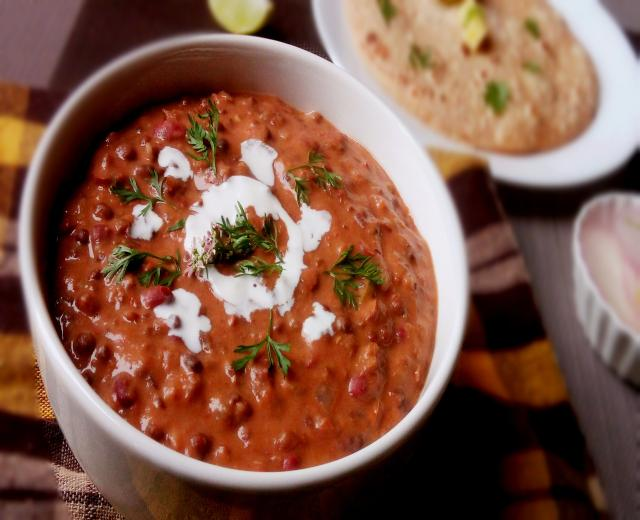dal makhni: (23, 34, 455, 520), (322, 2, 626, 186)
